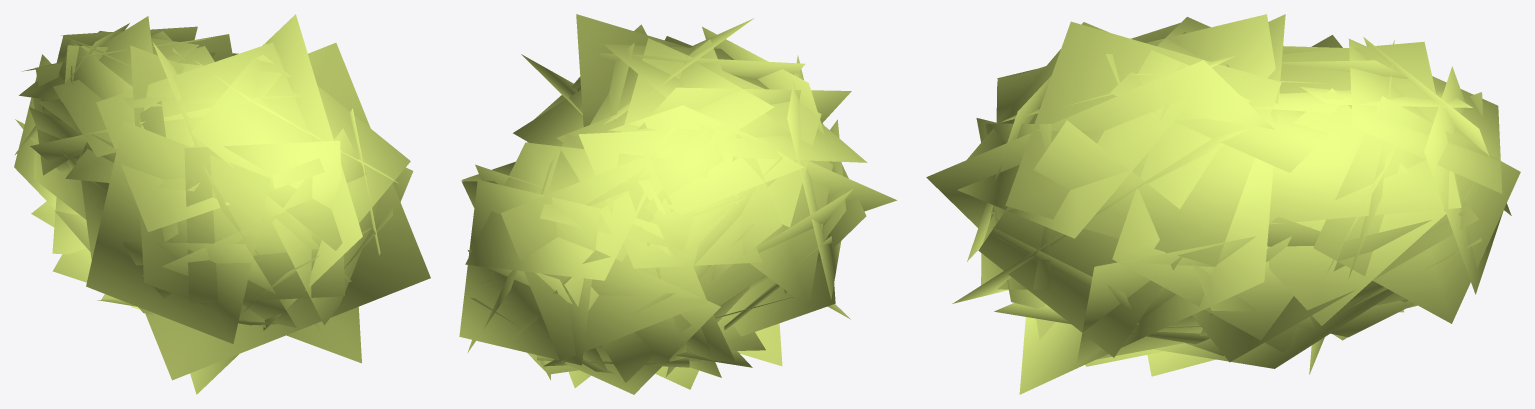
Rendered from bush0.fbx.
The picture shows the model from 3 angles, left to right: view 1: azimuth 30°, elevation 25°; view 2: azimuth 150°, elevation 25°; view 3: azimuth 270°, elevation 25°; orthographic projection. The views are drawn at different scales.
Parts seen in each view (by area): view 1: Bush; view 2: Bush; view 3: Bush.
Boxes of the visible parts, <box> form: Bush: <box>14,14,430,394</box>; Bush: <box>459,14,896,394</box>; Bush: <box>926,14,1520,394</box>.
Bounding box in the file's own units: 4.82 × 4.76 × 6.91.
